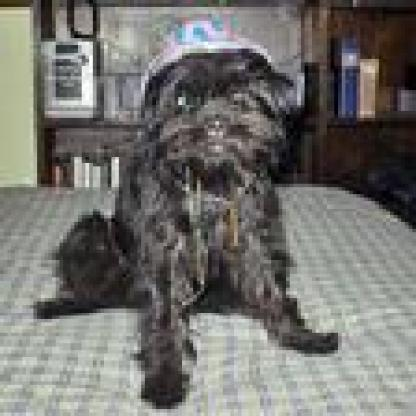affenpinscher: (22, 35, 349, 409)
